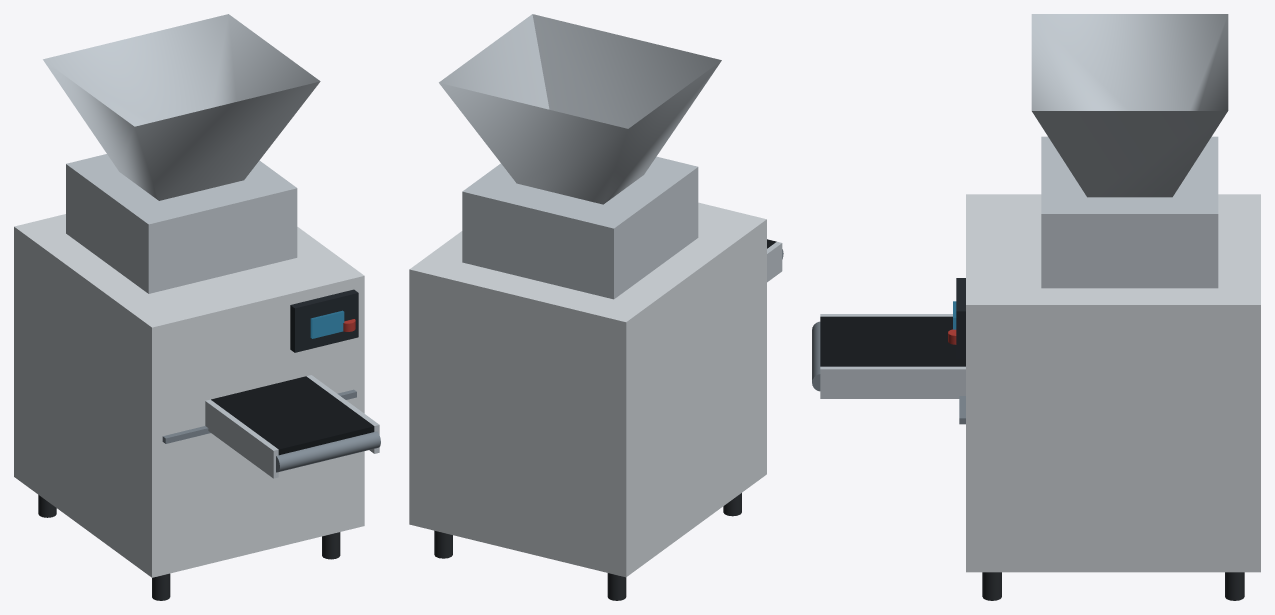
Rendered from sample-divider.glb.
The picture shows the model from 3 angles, left to right: view 1: azimuth 30°, elevation 25°; view 2: azimuth 150°, elevation 25°; view 3: azimuth 270°, elevation 25°; orthographic projection. The views are drawn at different scales.
Visible parts, largest first — view 1: корпус, Тестоделитель (пример), головка, лента, пульт; view 2: корпус, Тестоделитель (пример), головка; view 3: корпус, Тестоделитель (пример), головка, лента, пульт.
Part boxes in pixels (bbox=[...]): корпус: bbox=[14, 214, 364, 577]; Тестоделитель (пример): bbox=[38, 14, 380, 600]; головка: bbox=[66, 154, 297, 293]; лента: bbox=[211, 376, 374, 455]; пульт: bbox=[290, 289, 358, 352]; корпус: bbox=[409, 202, 766, 577]; Тестоделитель (пример): bbox=[434, 14, 783, 600]; головка: bbox=[462, 156, 698, 299]; корпус: bbox=[966, 194, 1260, 572]; Тестоделитель (пример): bbox=[812, 14, 1244, 600]; головка: bbox=[1041, 136, 1218, 288]; лента: bbox=[820, 316, 965, 366]; пульт: bbox=[956, 278, 965, 358].
Bounding box in the file's own units: 0.8 × 1.65 × 1.37.
